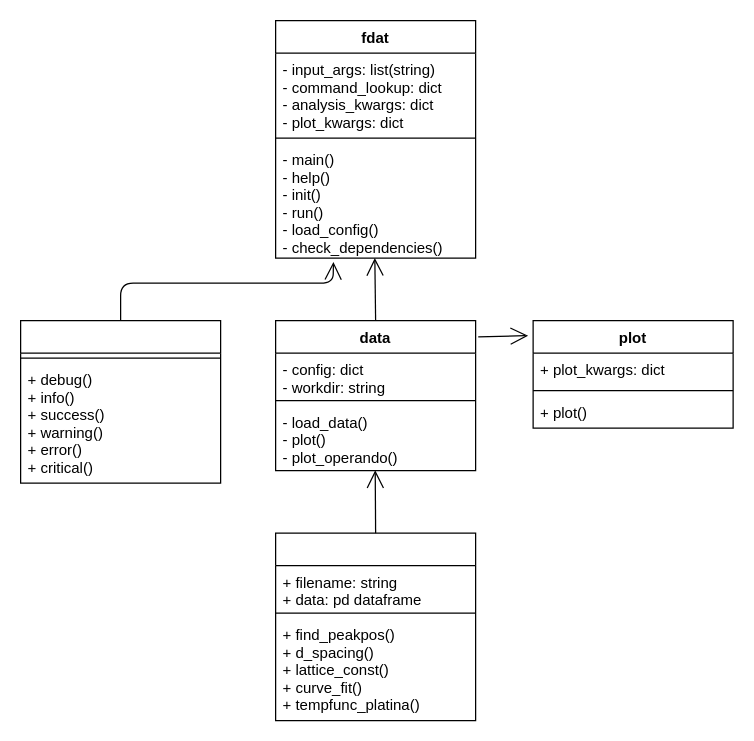
Image size: 754x741. Some labels were removed from this diagram. Each missing label, with the box of its shape:
diff: (274, 532, 476, 721)
log: (19, 319, 221, 483)
